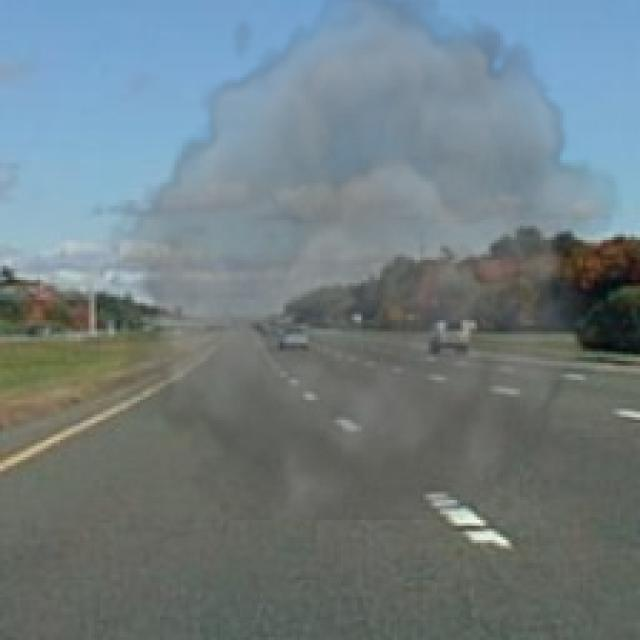Smoke: (103, 0, 623, 520)
